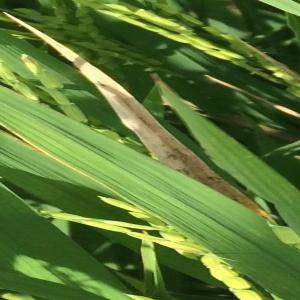Bacterial_Blight: (2, 116, 90, 178)
